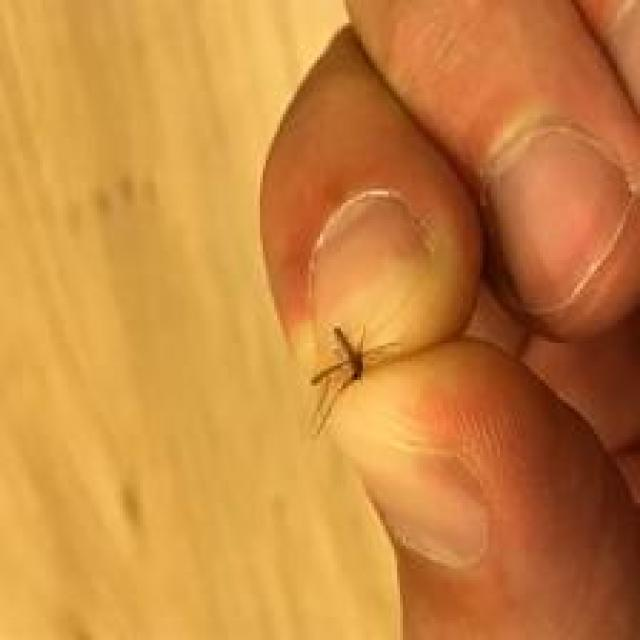Culex: (309, 323, 400, 437)
